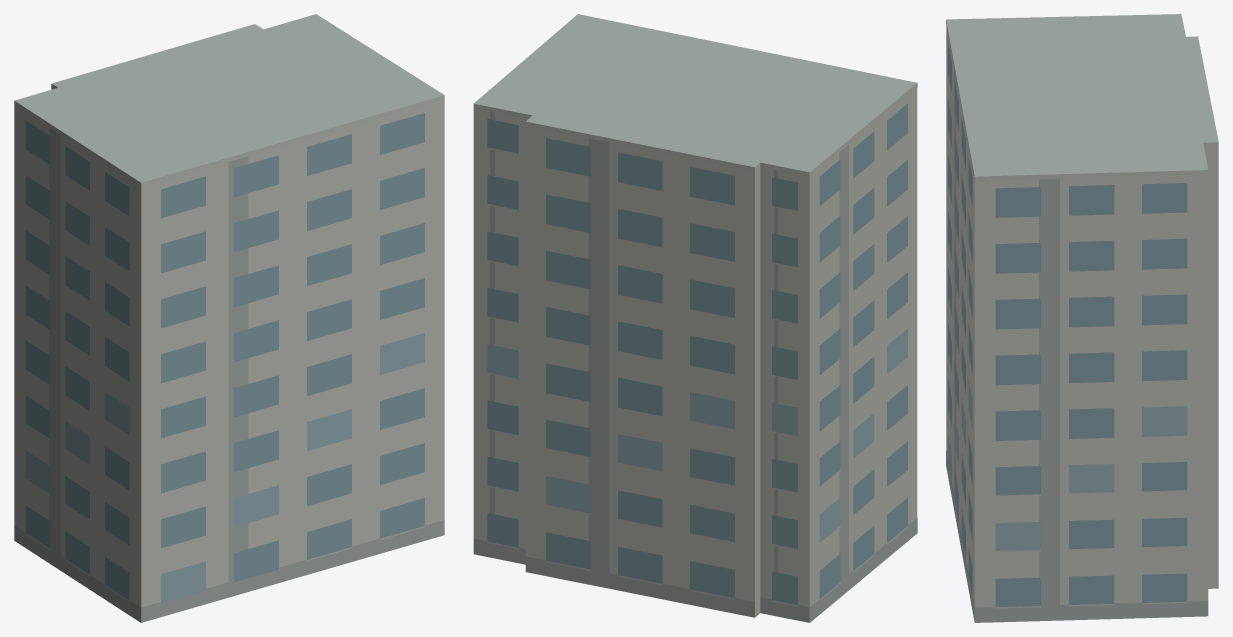
The model's file is survey-upis-32744893.glb.
The picture shows the model from 3 angles, left to right: view 1: azimuth 30°, elevation 25°; view 2: azimuth 150°, elevation 25°; view 3: azimuth 270°, elevation 25°; orthographic projection. The views are drawn at different scales.
Parts seen in each view (by area): view 1: survey-upis-32744893.tmp; view 2: survey-upis-32744893.tmp; view 3: survey-upis-32744893.tmp.
Part boxes in pixels (x1,y1,x2,y2): survey-upis-32744893.tmp: (14, 14, 444, 622); survey-upis-32744893.tmp: (473, 14, 917, 622); survey-upis-32744893.tmp: (946, 14, 1218, 622).
Size of the model in its own units: 19.07 by 24.4 by 13.52.
